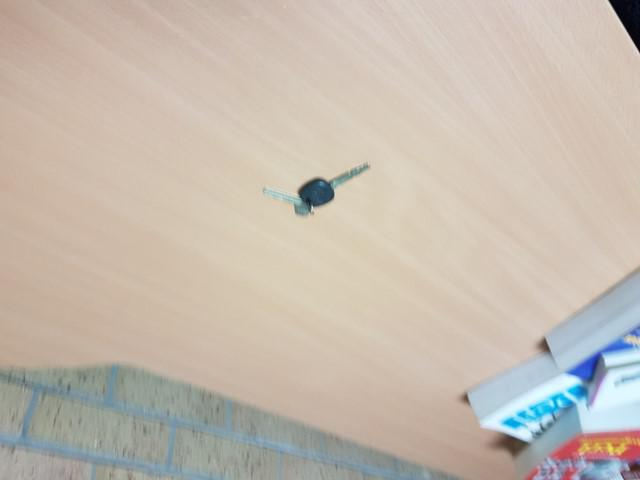key: (297, 156, 374, 209)
